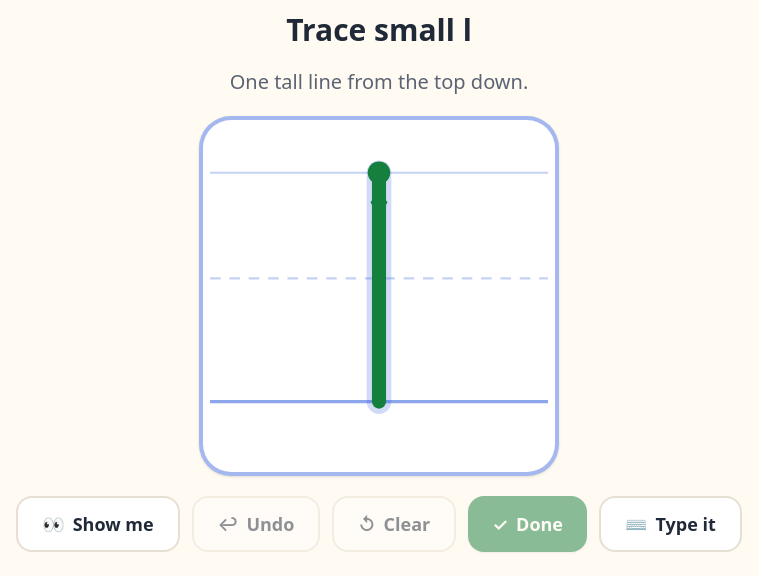
it: TracingRenderer › records strokes from pointer events in the glyph's box, with undo and clear
The width and height of the screenshot is (759, 576).
Expected: the button "✓ Done" is disabled, [468,496,587,552]
Step 1. Press the mouse on the picture with test id "tracing-canvas" → point(379, 296), box [203,120,555,472]
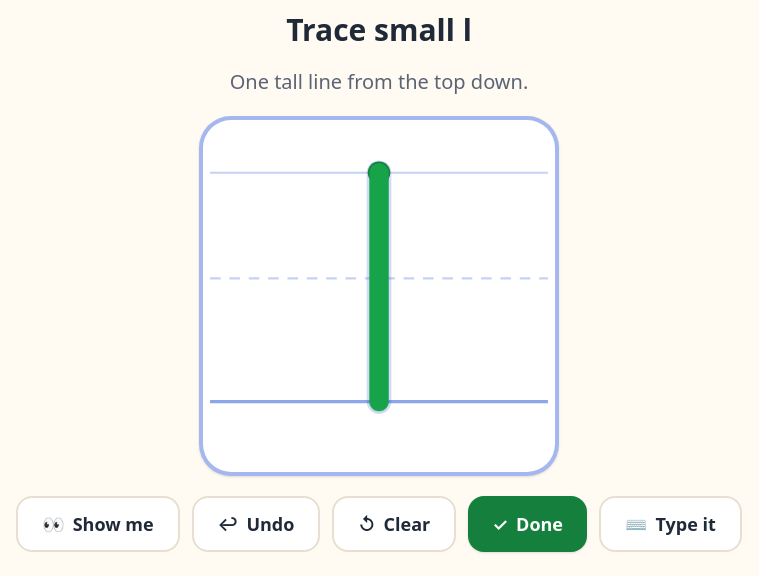
Step 2. Press the mouse on the picture with test id "tracing-canvas" → point(379, 296), box [203,120,555,472]
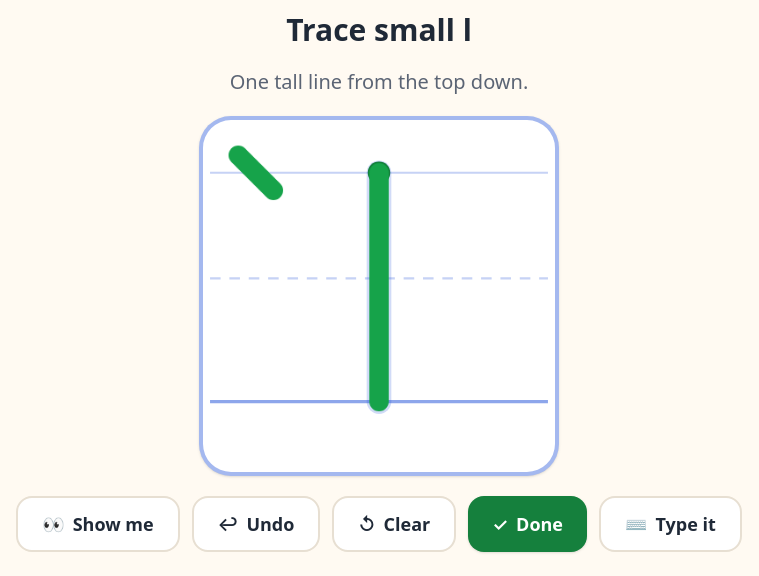
Step 3. Click the button "↩ Undo" → point(256, 524), box [192,496,320,552]
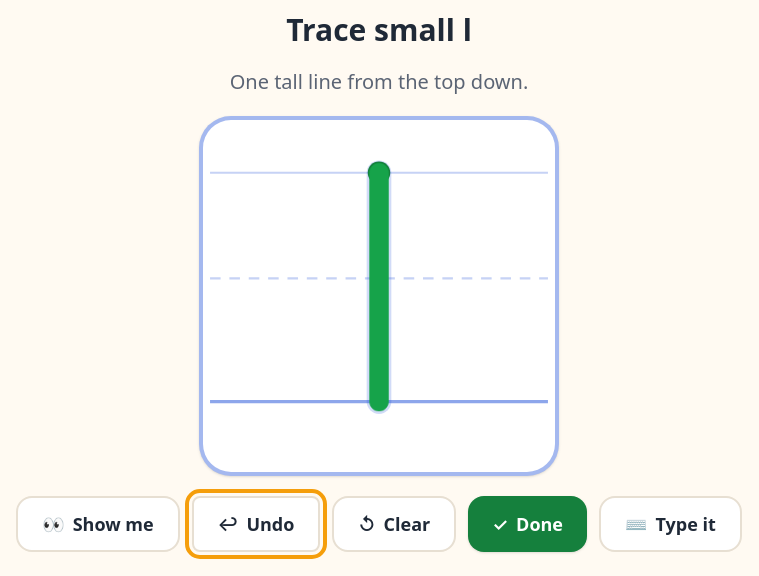
Step 4. Click the button "✓ Done" → point(528, 524), box [468,496,587,552]
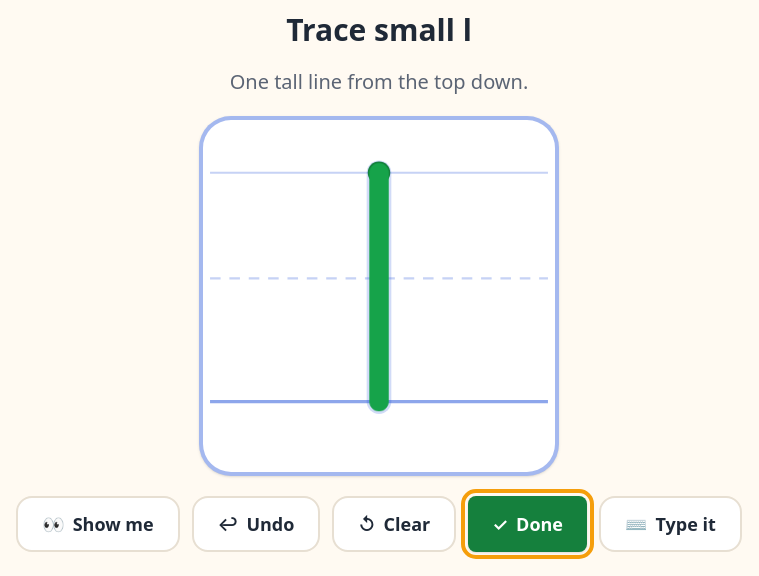
Step 5. Click the button "↺ Clear" → point(394, 524), box [332,496,456,552]
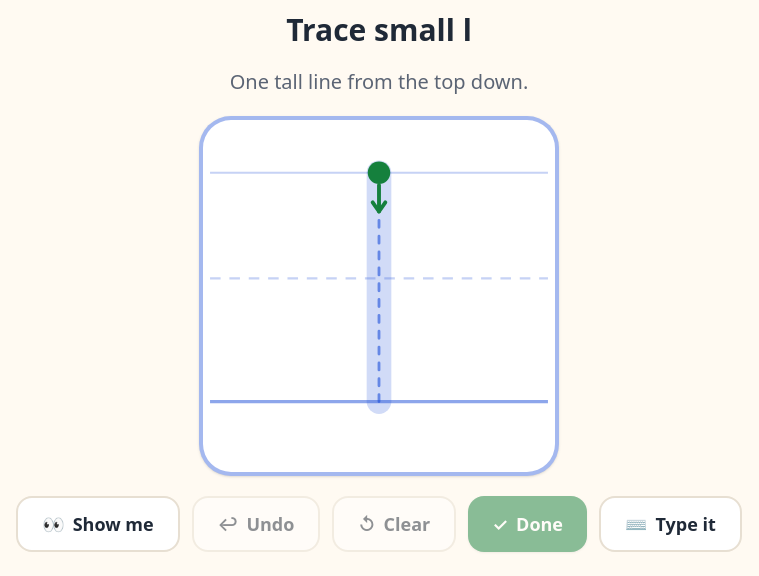
Result: the button "✓ Done" is disabled at [468,496,587,552]
